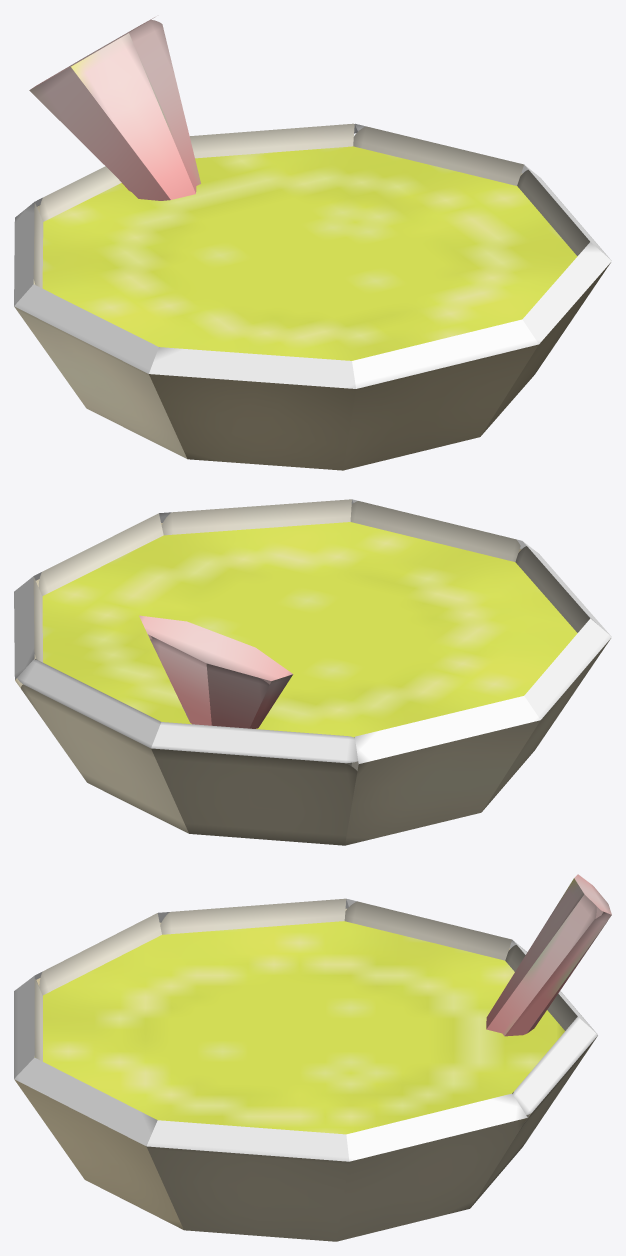
Rendered from Dish.fbx.
3 views of the same model, one above another, from view 1: azimuth 30°, elevation 25°; view 2: azimuth 150°, elevation 25°; view 3: azimuth 270°, elevation 25° (orthographic).
Visible parts, largest first — view 1: cylinder_selection, cylinder_1, cylinder; view 2: cylinder_selection, cylinder_1, cylinder; view 3: cylinder_selection, cylinder_1, cylinder.
Boxes of the visible parts, x1,y1,x2,y2 form: cylinder_selection: [42, 146, 577, 360]; cylinder_1: [14, 123, 611, 470]; cylinder: [29, 17, 200, 200]; cylinder_selection: [42, 522, 577, 737]; cylinder_1: [14, 499, 611, 845]; cylinder: [139, 615, 293, 728]; cylinder_selection: [35, 921, 564, 1134]; cylinder_1: [14, 898, 597, 1241]; cylinder: [486, 874, 611, 1036].
Size of the model in its own units: 64.8 by 28.79 by 64.69.
1 material, 1 textured.
